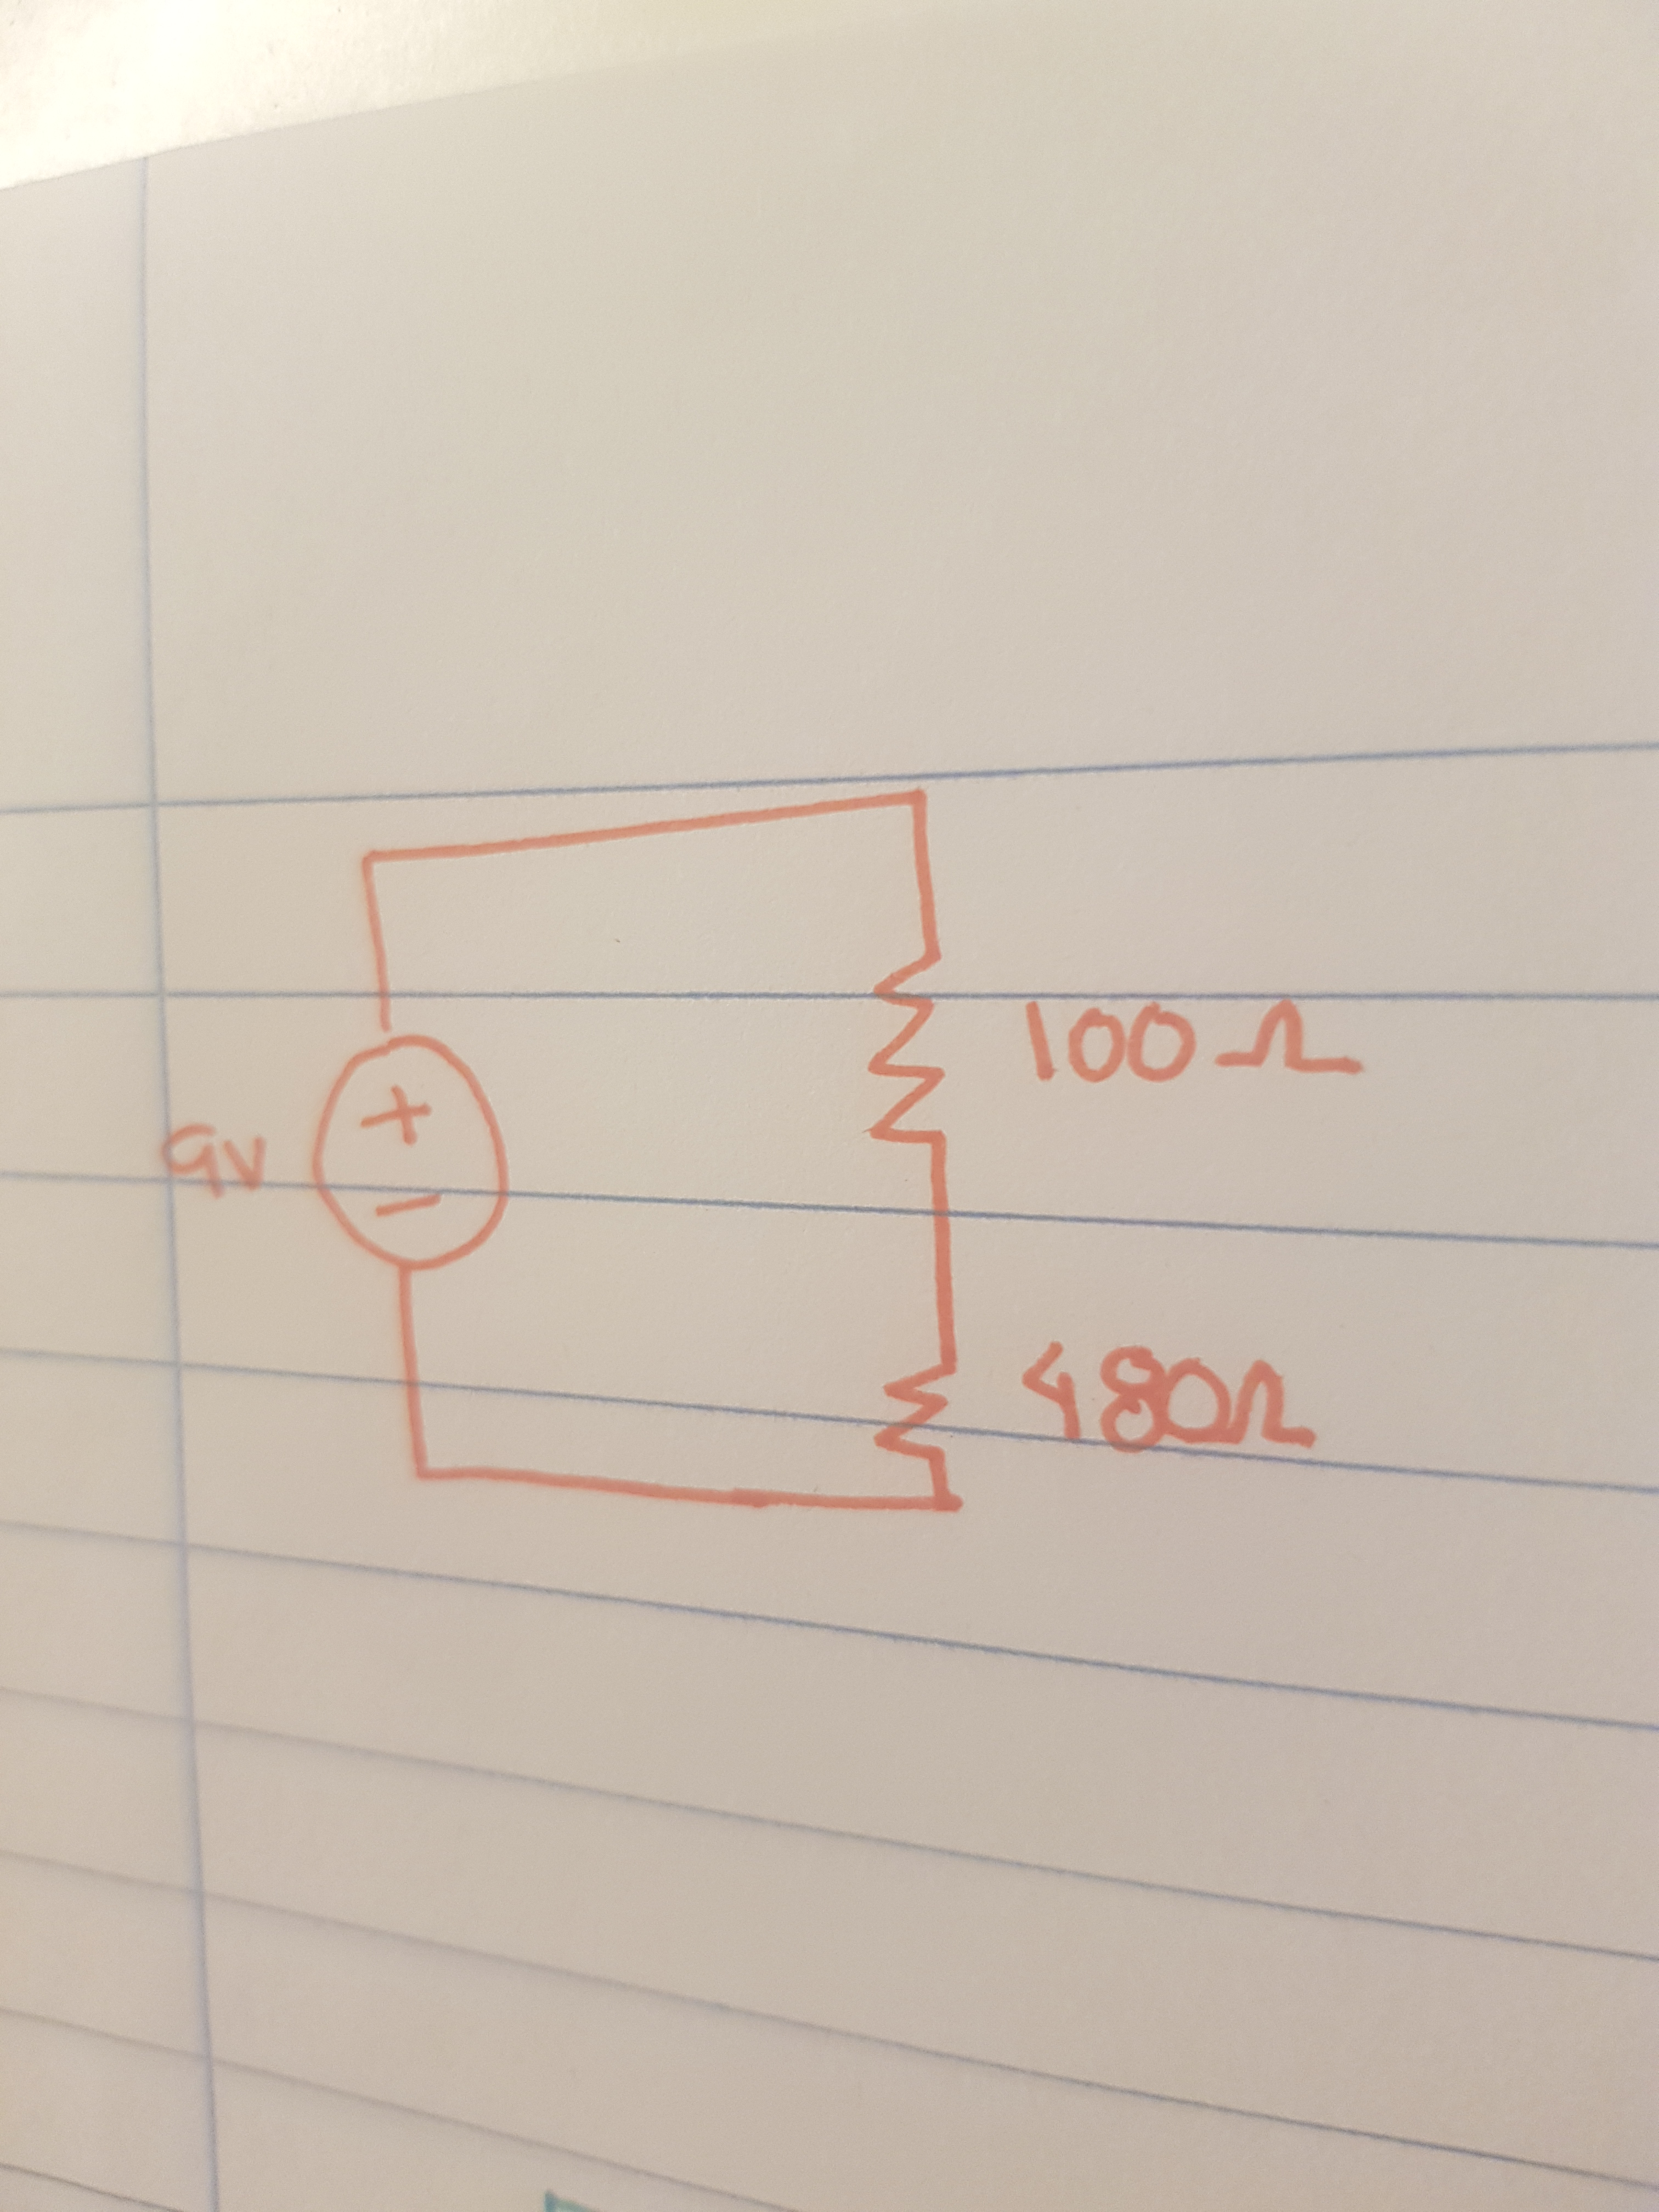junction: (387, 1437, 457, 1512), (875, 775, 936, 836), (350, 833, 404, 888), (920, 1482, 971, 1522)
resistor: (857, 935, 967, 1169), (866, 1360, 972, 1461)
text: (1014, 1325, 1330, 1461), (1007, 989, 1368, 1082), (152, 1118, 277, 1202)
voltage.dc: (288, 1031, 532, 1285)
